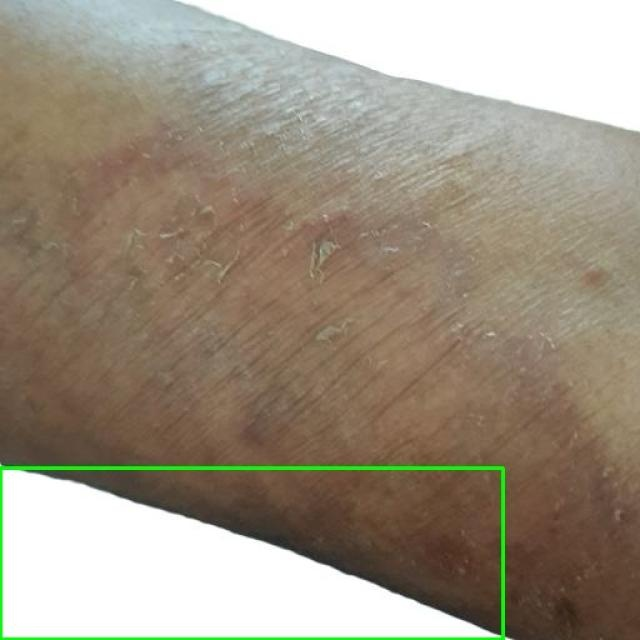Tinea Corporis: (0, 468, 502, 639)
